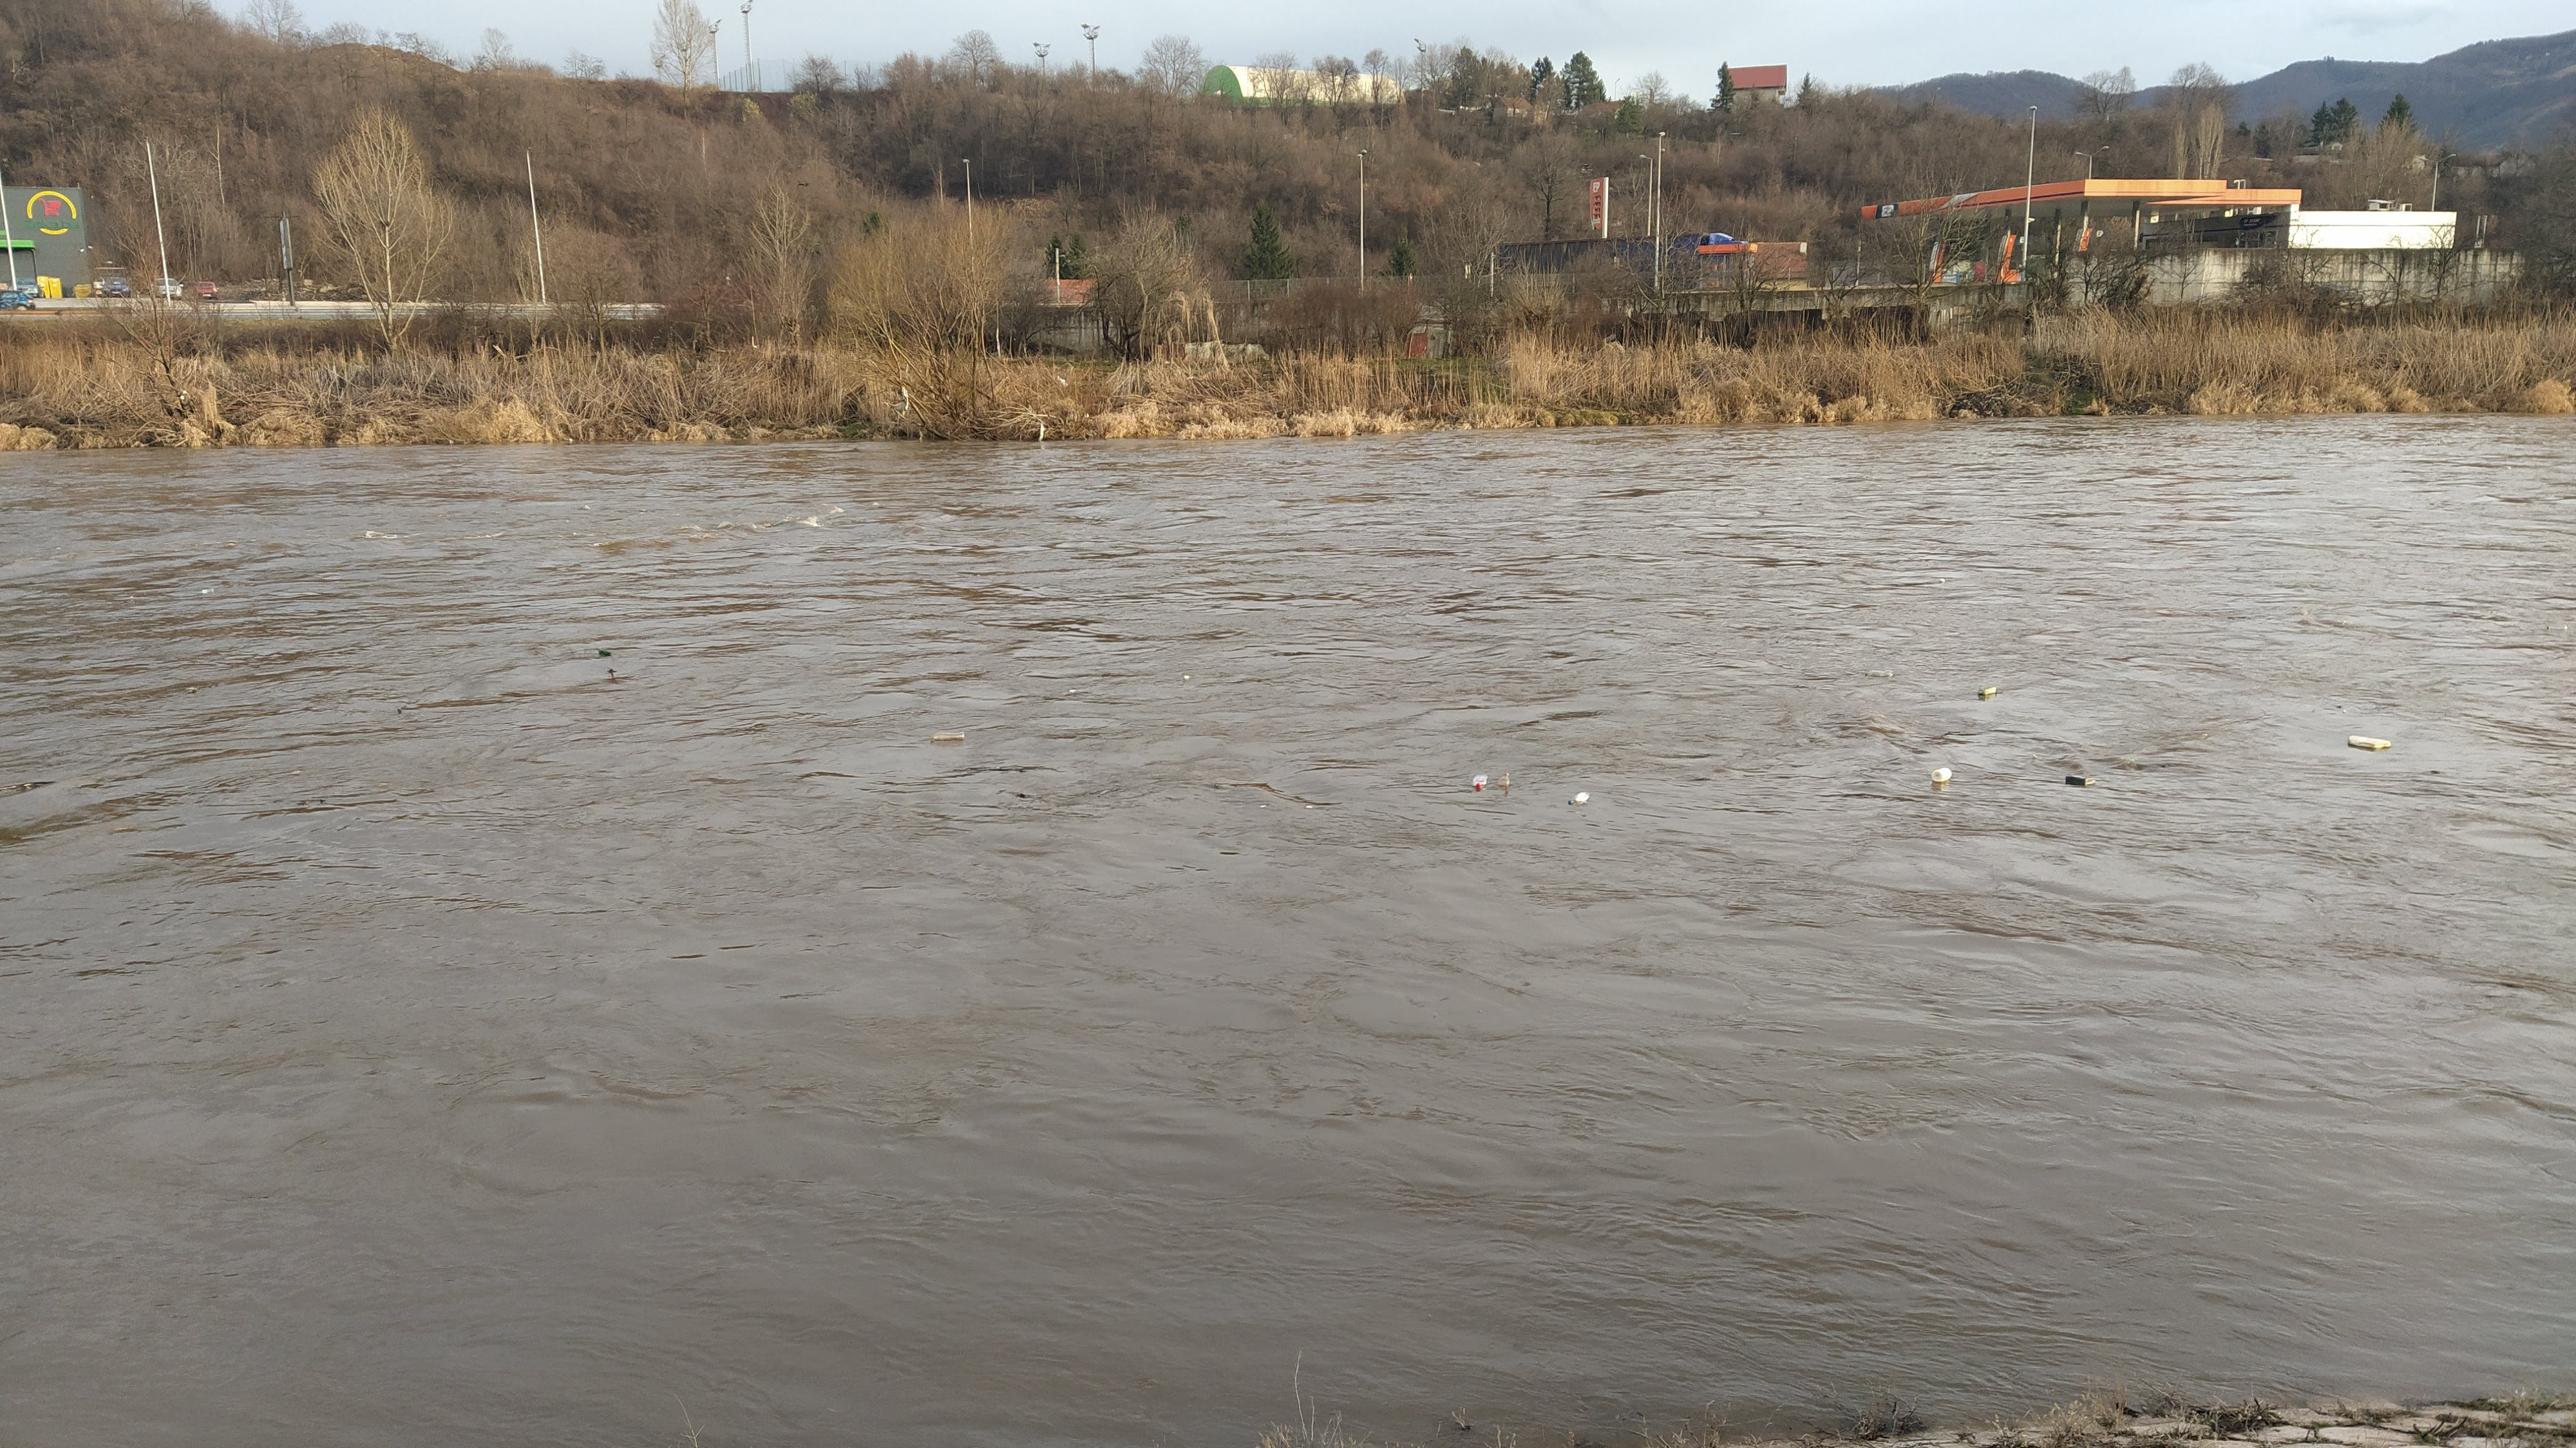Plastic Bottle: (2065, 774, 2095, 784), (1932, 766, 1951, 782), (1568, 789, 1589, 804), (932, 731, 964, 740), (1470, 774, 1488, 789), (1497, 772, 1511, 786), (1978, 685, 1996, 696), (1865, 669, 1891, 676), (2546, 625, 2567, 630), (598, 648, 610, 657), (202, 588, 214, 593)
